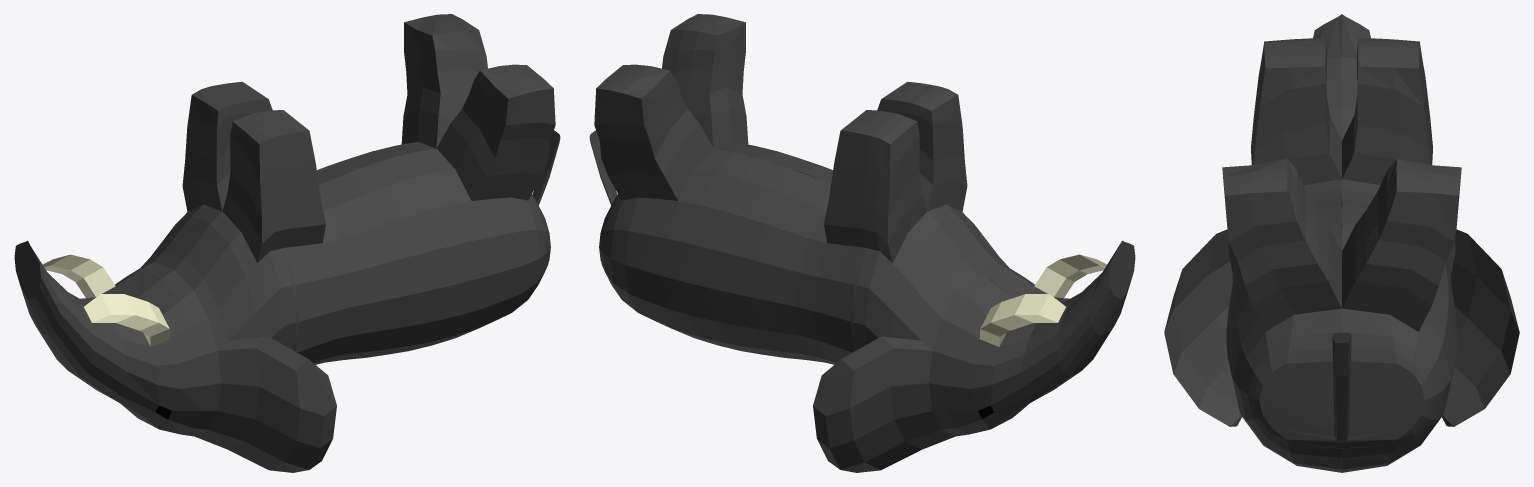
File: Elefant.FBX
The picture shows the model from 3 angles, left to right: view 1: azimuth 30°, elevation 25°; view 2: azimuth 150°, elevation 25°; view 3: azimuth 270°, elevation 25°; orthographic projection. The views are drawn at different scales.
Visible parts, largest first — view 1: Cylinder002; view 2: Cylinder002; view 3: Cylinder002.
Boxes of the visible parts, left/top/right/bottom form: Cylinder002: left=14, top=14, right=560, bottom=472; Cylinder002: left=589, top=14, right=1135, bottom=472; Cylinder002: left=1164, top=14, right=1519, bottom=472.
Size of the model in its own units: 207 by 126 by 105.
